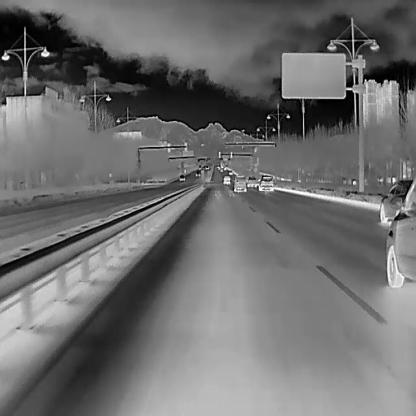car: (386, 181, 415, 288), (379, 177, 415, 222), (258, 175, 274, 192), (234, 175, 247, 192), (246, 173, 257, 188), (223, 175, 230, 185), (178, 173, 185, 181), (195, 169, 200, 177), (197, 164, 201, 169), (205, 164, 209, 169), (228, 169, 232, 174), (223, 165, 227, 170), (216, 163, 220, 168), (219, 168, 223, 172)
